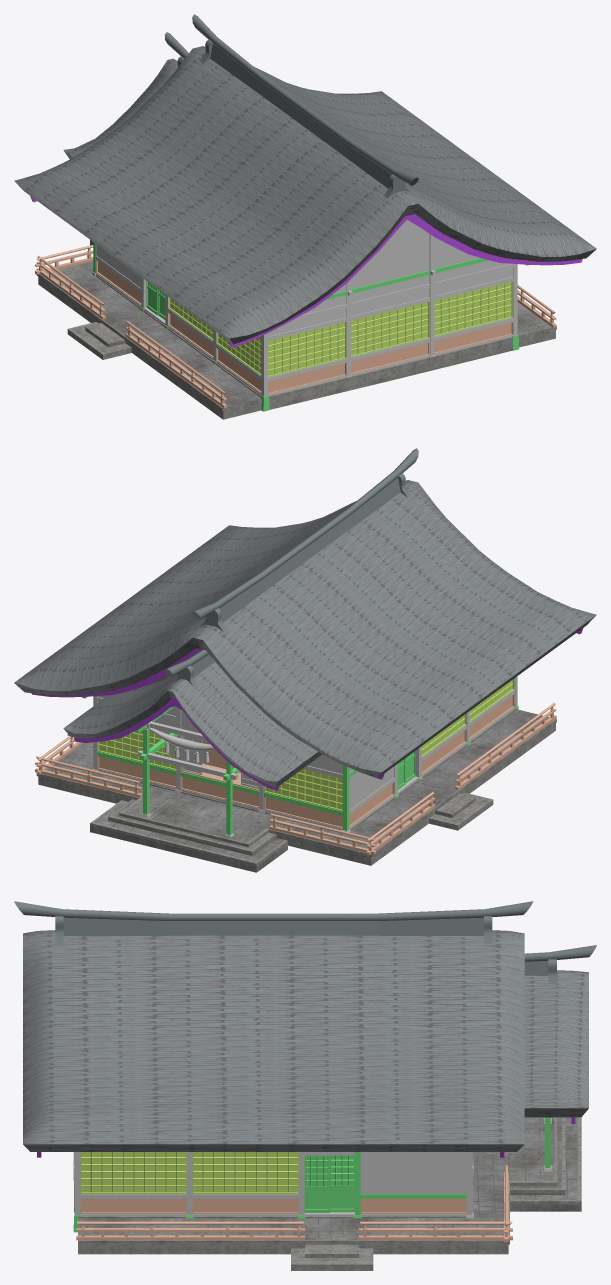
Rendered from m_shine.fbx.
The picture shows the model from 3 angles, top to bottom: view 1: azimuth 30°, elevation 25°; view 2: azimuth 150°, elevation 25°; view 3: azimuth 270°, elevation 25°; orthographic projection. The views are drawn at different scales.
Parts seen in each view (by area): view 1: mesh_shine_LOD0; view 2: mesh_shine_LOD0; view 3: mesh_shine_LOD0.
Part boxes in pixels (x1=…): mesh_shine_LOD0: x1=14, y1=14, x2=596, y2=419; mesh_shine_LOD0: x1=14, y1=448, x2=596, y2=872; mesh_shine_LOD0: x1=14, y1=901, x2=596, y2=1270.
Size of what is drawn, in the model's own units: 18.77 by 10.38 by 20.83.
